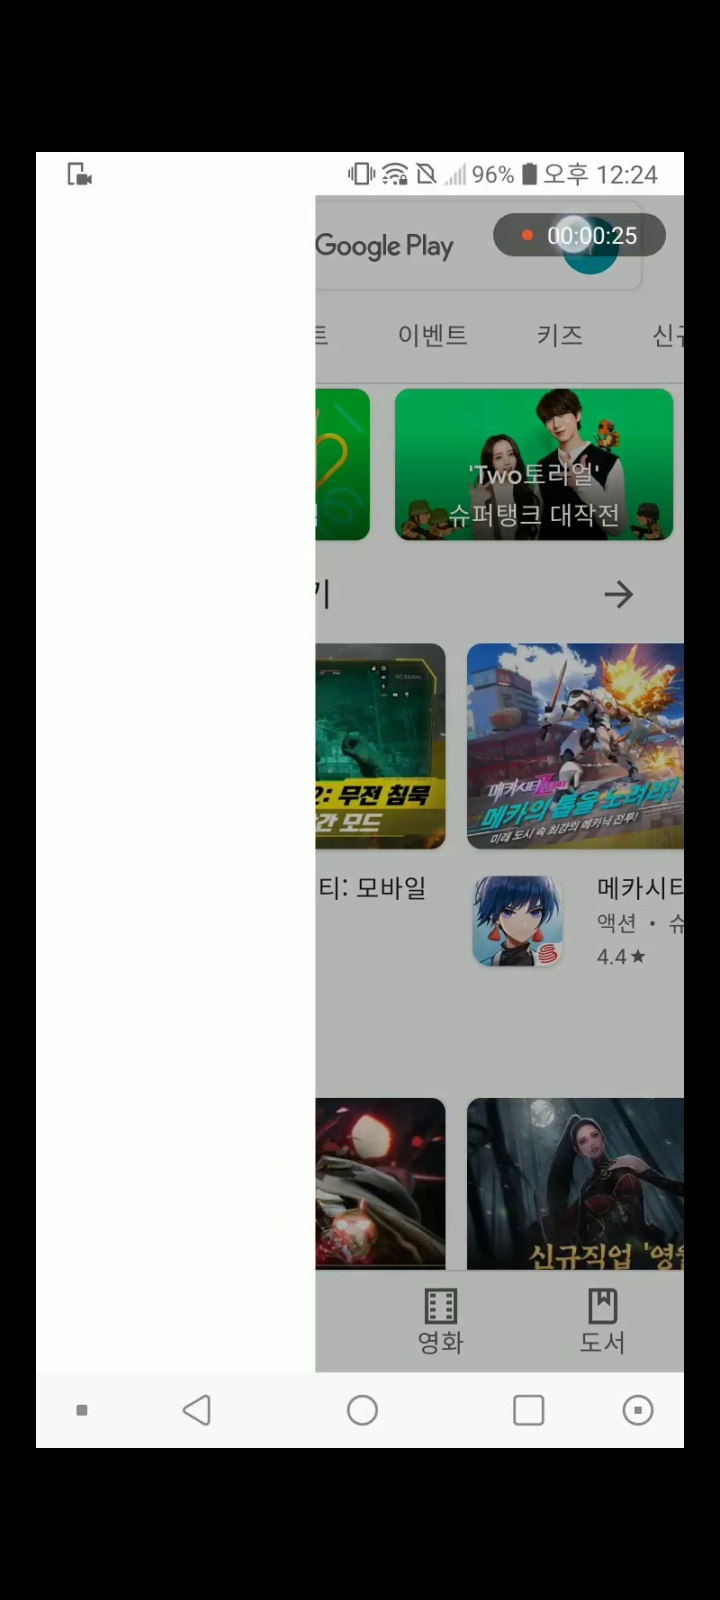Cursor: (550, 210, 595, 256)
